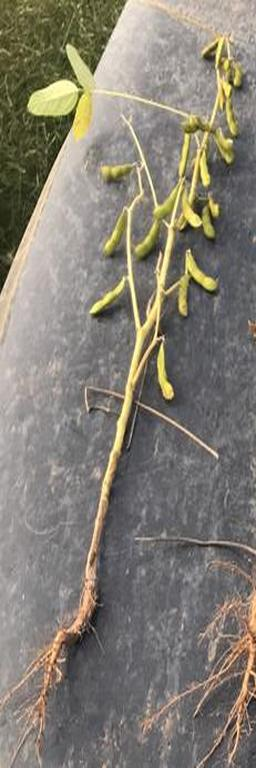pod: (85, 274, 128, 320), (187, 251, 226, 294), (156, 345, 182, 402), (102, 205, 127, 259), (132, 217, 161, 260), (176, 276, 195, 320), (98, 161, 136, 182), (152, 185, 176, 217), (177, 131, 191, 180), (200, 207, 219, 240), (226, 98, 239, 137), (200, 154, 213, 187), (208, 194, 227, 216), (233, 69, 243, 89)
soy: (83, 32, 248, 649)
